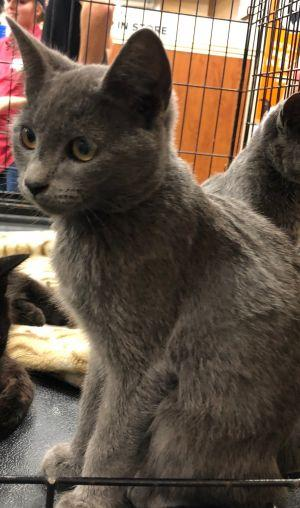rblue: (1, 9, 200, 230)
